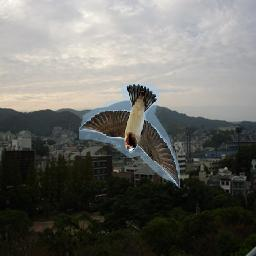Swallow: (80, 84, 181, 188)
